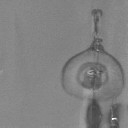slag inclusion: (61, 8, 125, 128)
